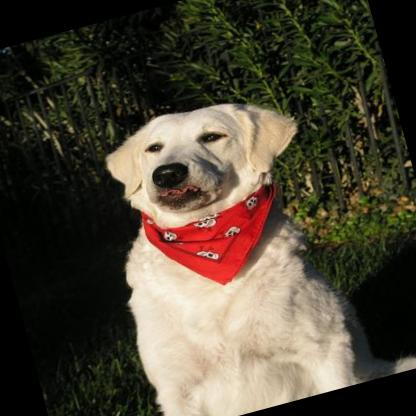kuvasz: (8, 59, 416, 416)
